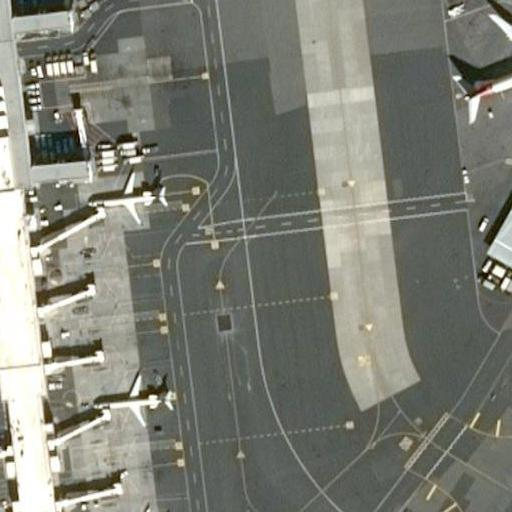Aircraft: (449, 0, 512, 142), (92, 157, 175, 230), (95, 366, 177, 429), (116, 495, 182, 512), (507, 422, 512, 495)
